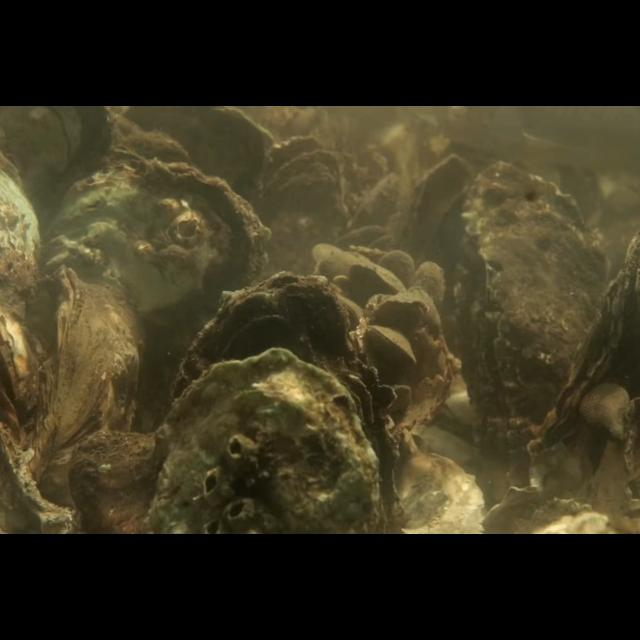Oyster-Closed: (42, 156, 268, 430), (166, 272, 398, 534), (454, 160, 610, 456), (146, 346, 384, 534), (522, 225, 640, 501), (366, 322, 414, 364), (371, 294, 429, 326)
Oyster-Indeterminate: (29, 264, 141, 534), (394, 152, 472, 310), (344, 261, 404, 297), (374, 249, 416, 297), (412, 260, 444, 312)
Oyster-Open: (252, 134, 348, 272)
